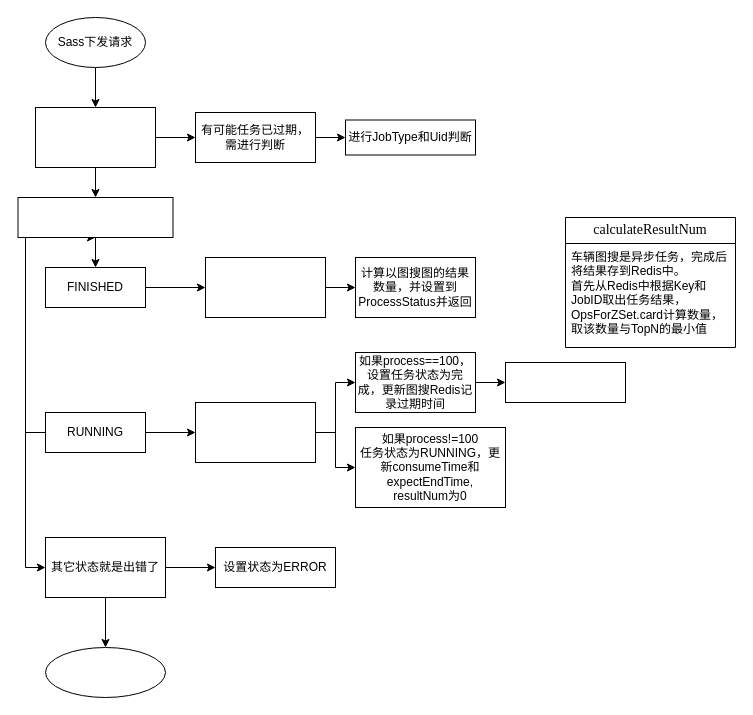
Image size: 753x715. Some labels were removed from this diagram. The centre of each missing label's shape, as x and y in pixels:
"JobStatus可能有三种状态" goes at point (95, 217).
"从Redis中根据key和JobId取出Job" goes at point (95, 137).
"构建ProcessStatus，设置时间信息，状态" goes at point (265, 287).
"计算任务进度（根据Redis搜索任务表中任务数量计算，已完成的数量/总数量）" goes at point (255, 432).
"走FINISHED流程" goes at point (565, 382).
"返回200以及result" goes at point (105, 672).
